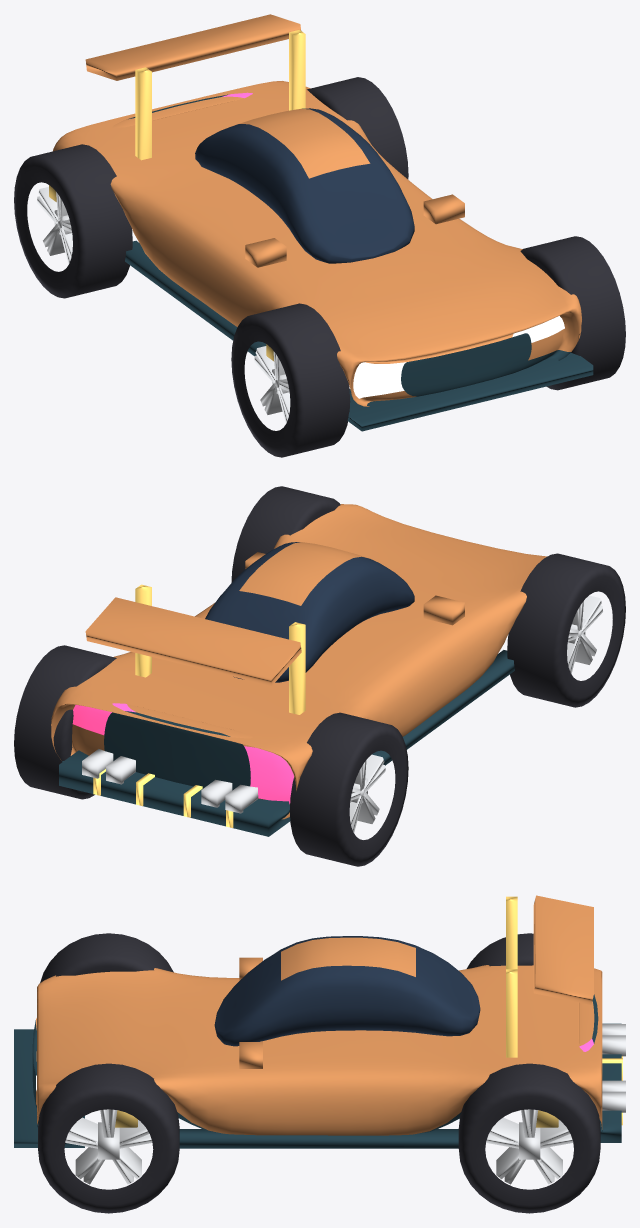
File: dhool_runner.glb
3 views of the same model, one above another, from view 1: azimuth 30°, elevation 25°; view 2: azimuth 150°, elevation 25°; view 3: azimuth 270°, elevation 25° (orthographic). The views are drawn at different scales.
Visible parts, largest first — view 1: Chassis, Wheel_FR, Wheel_RR, Wheel_FL, Wheel_RL; view 2: Chassis, Wheel_RR, Wheel_FR, Wheel_RL, Wheel_FL; view 3: Chassis, Wheel_FL, Wheel_RL, Wheel_FR, Wheel_RR.
Part boxes in pixels (x1=…): Chassis: x1=53, y1=14, x2=593, y2=431; Wheel_FR: x1=231, y1=303, x2=350, y2=457; Wheel_RR: x1=14, y1=144, x2=132, y2=298; Wheel_FL: x1=520, y1=236, x2=625, y2=390; Wheel_RL: x1=307, y1=77, x2=408, y2=179; Chassis: x1=51, y1=504, x2=547, y2=836; Wheel_RR: x1=289, y1=712, x2=408, y2=866; Wheel_FR: x1=507, y1=553, x2=625, y2=707; Wheel_RL: x1=14, y1=645, x2=116, y2=799; Wheel_FL: x1=231, y1=486, x2=340, y2=582; Chassis: x1=14, y1=895, x2=625, y2=1148; Wheel_FL: x1=38, y1=1063, x2=179, y2=1213; Wheel_RL: x1=458, y1=1063, x2=600, y2=1213; Wheel_FR: x1=40, y1=933, x2=173, y2=982; Wheel_RR: x1=466, y1=933, x2=533, y2=968.
Bounding box in the file's own units: 2.47 × 1.51 × 4.13.
